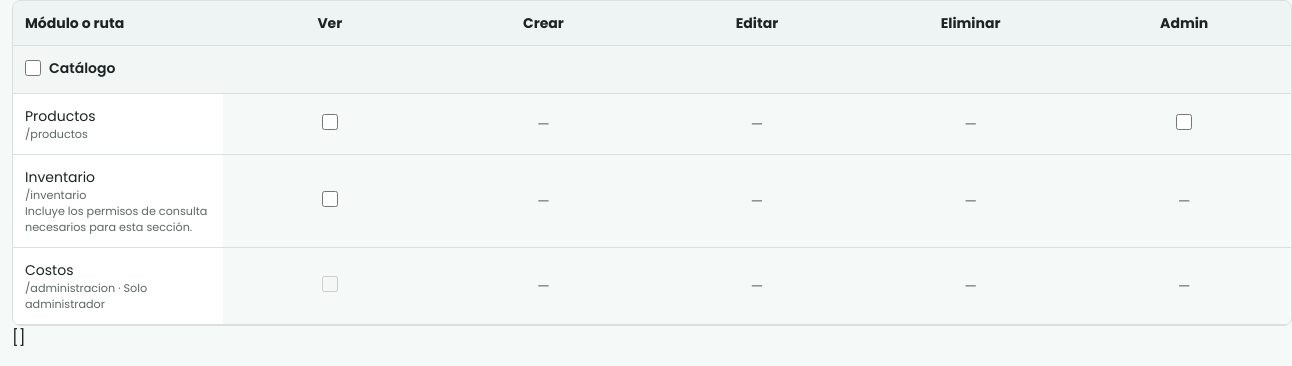
Test: section select-all excludes protected grants and supports deselection
The width and height of the screenshot is (1292, 366).
Click the checkbox named "Seleccionar sección Catálogo": x=33, y=68 [25,60,41,76]
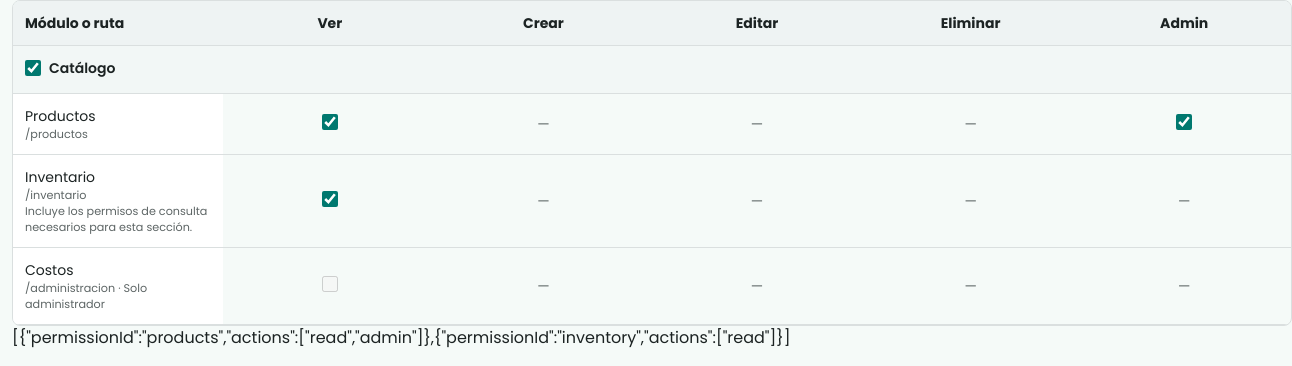
Expected: the checkbox named "Ver en Costos" is not checked, [322,276,338,292]
Expected: the checkbox named "Admin en Productos" is checked, [1176,114,1192,130]
Click the checkbox named "Seleccionar sección Catálogo": x=33, y=68 [25,60,41,76]
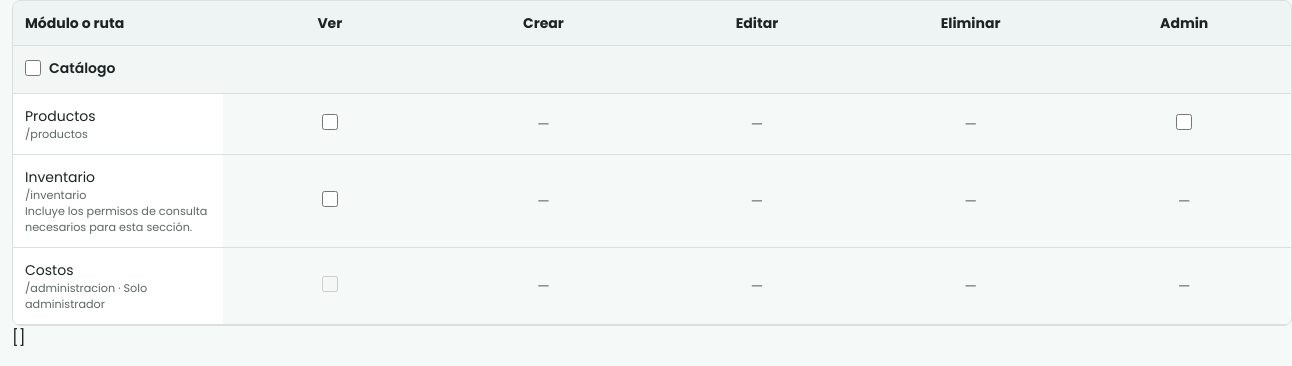
Expected: the text with test id "grants" reads "[]", [12,326,26,349]
